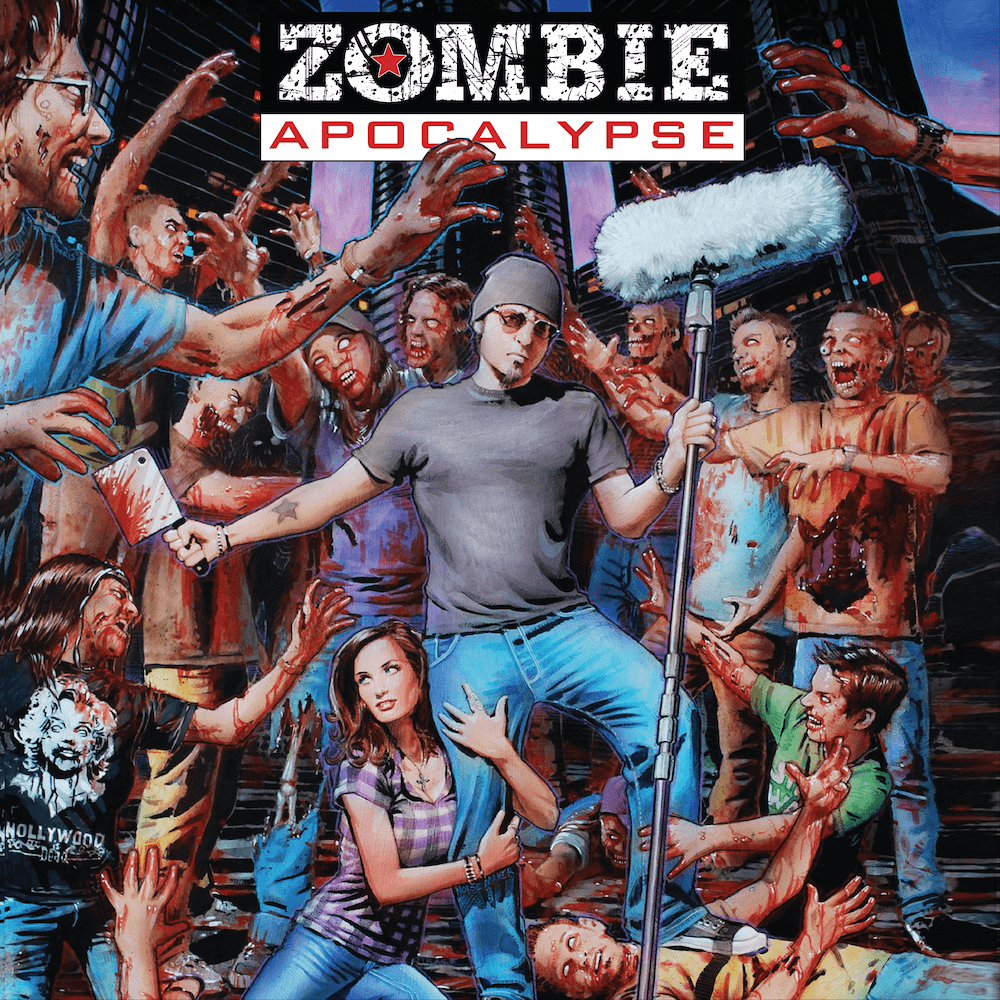-: (156, 251, 700, 978), (707, 301, 957, 947), (0, 551, 348, 998), (241, 621, 535, 1000)
